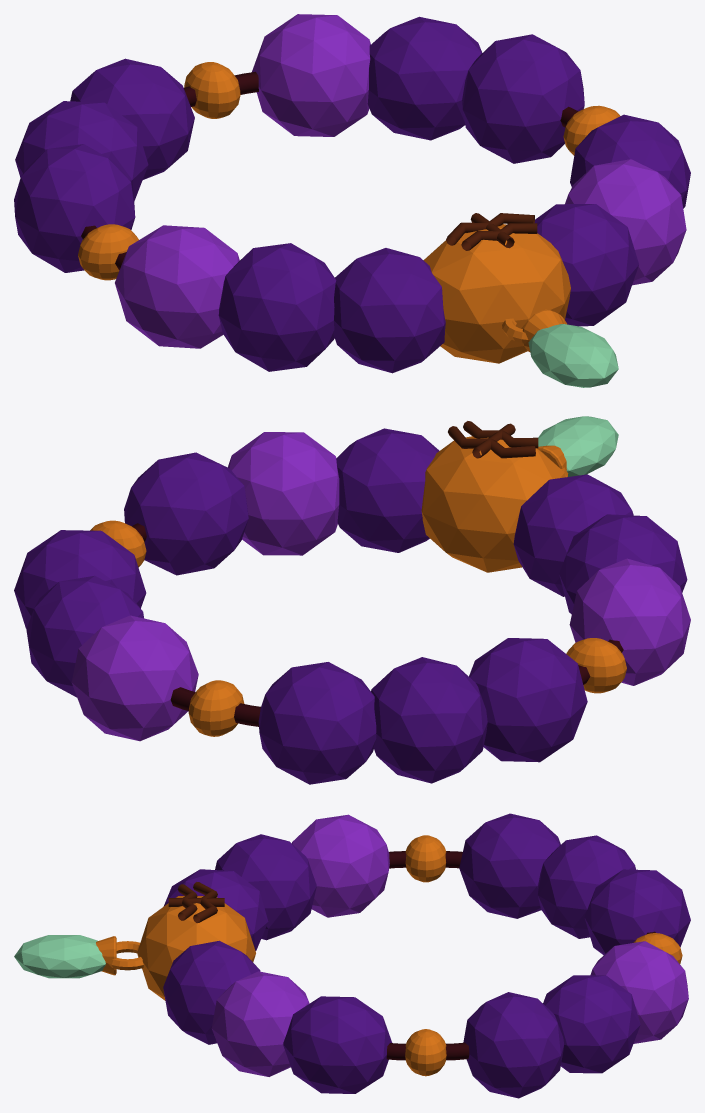
The model's file is bracelet.glb.
3 views of the same model, one above another, from view 1: azimuth 30°, elevation 25°; view 2: azimuth 150°, elevation 25°; view 3: azimuth 270°, elevation 25° (orthographic). The views are drawn at different scales.
Parts seen in each view (by area): view 1: bracelet; view 2: bracelet; view 3: bracelet.
Part boxes in pixels (bbox=[...]): bracelet: bbox=[14, 14, 690, 387]; bracelet: bbox=[14, 416, 690, 784]; bracelet: bbox=[14, 813, 690, 1098].
Bounding box in the file's own units: 0.7817 × 0.1756 × 1.
1 material, 1 textured.
